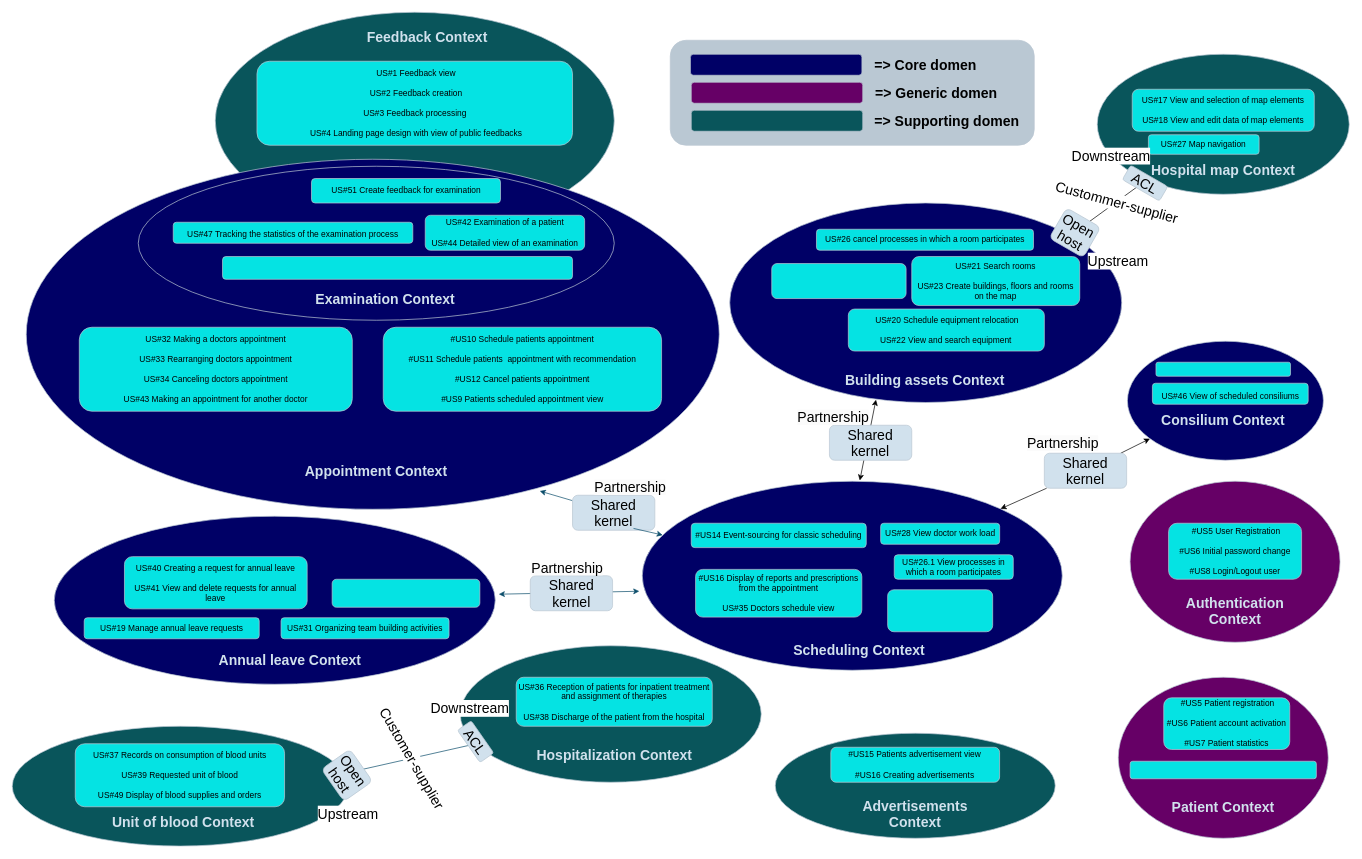
Image size: 1362x859. Some labels were removed from this diagram. Each missing label, with the centre of its shape:
#US13 Block and unblock malicious patients: (1222,770)
US#24 Schedule room renovation US#30 Merging of multiple rooms: (838,281)
US#25 View annual leave statistics: (405,593)
US#29 Event-sourcing for scheduling renovations: (940,610)
US#45 Scheduling a consilium: (1223,369)
US#48 Searching through the examination reports and drug prescriptions: (397,267)
